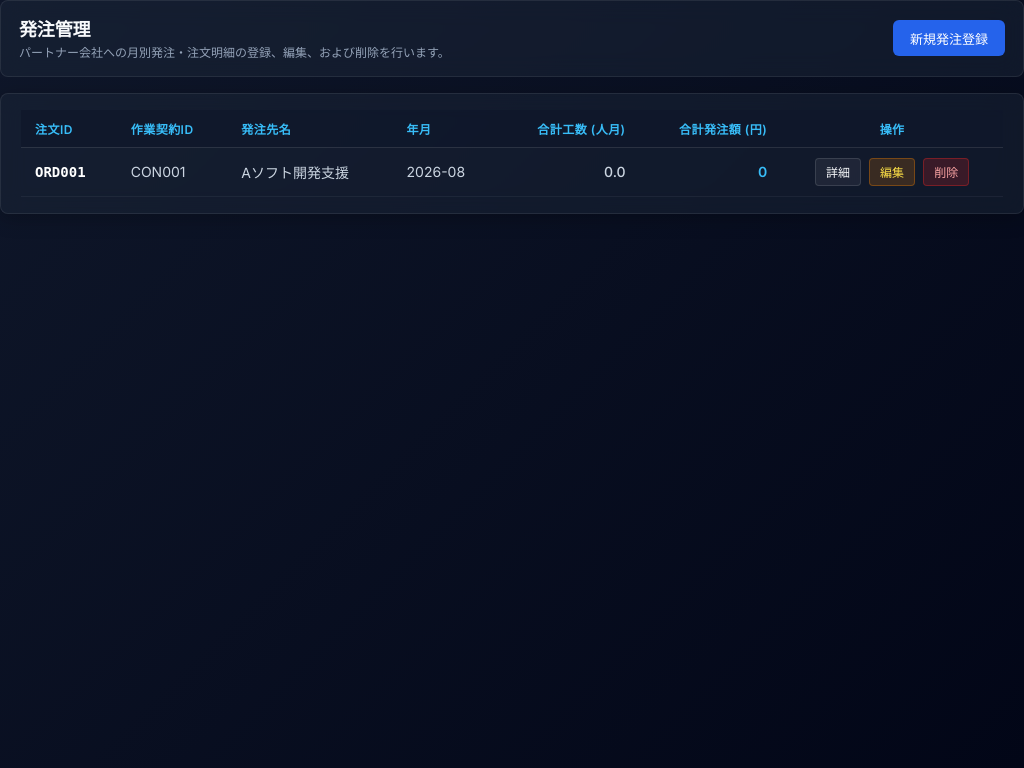
Test case: PartnerOrderView (削除操作 UI) › 一覧行の「削除」ボタンをクリックした際、確認ダイアログ確認を経て物理削除が行われること
The image size is (1024, 768).
Check: the text "ORD001" is shown, box x1=21 y1=147 x2=117 y2=196
Click the button "削除" at (946, 172), box x1=923 y1=158 x2=969 y2=186
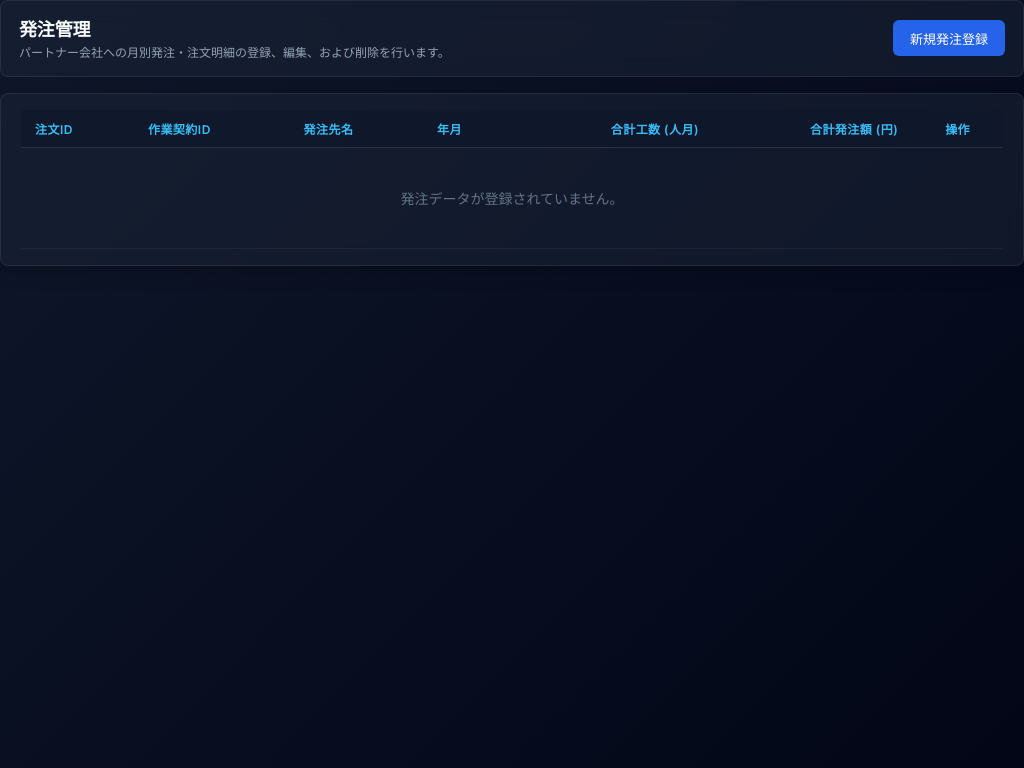
Check: the text "ORD001" is gone
